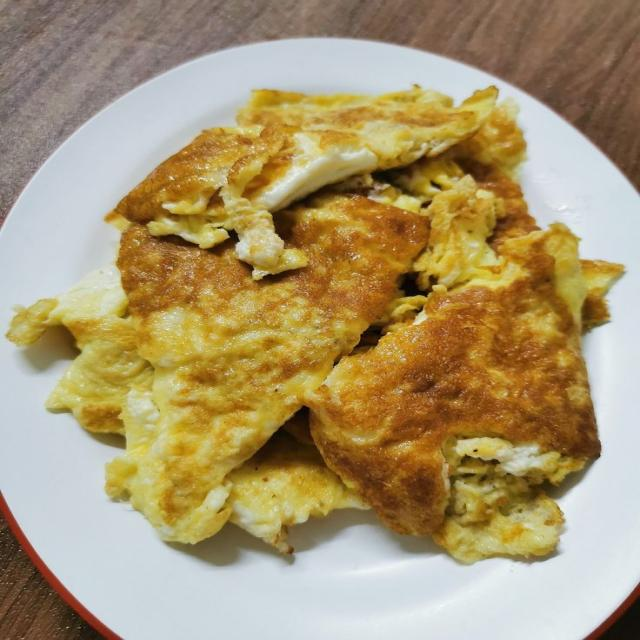omelette: (8, 87, 622, 562), (107, 193, 426, 542), (307, 225, 599, 561), (108, 87, 497, 278), (8, 266, 156, 448), (7, 266, 151, 432), (227, 412, 367, 553)
